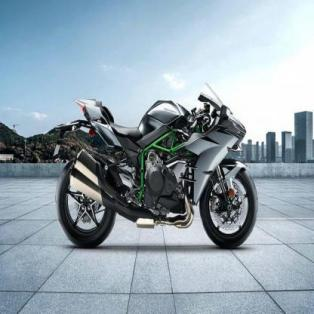Motocicleta: (50, 76, 264, 259)
